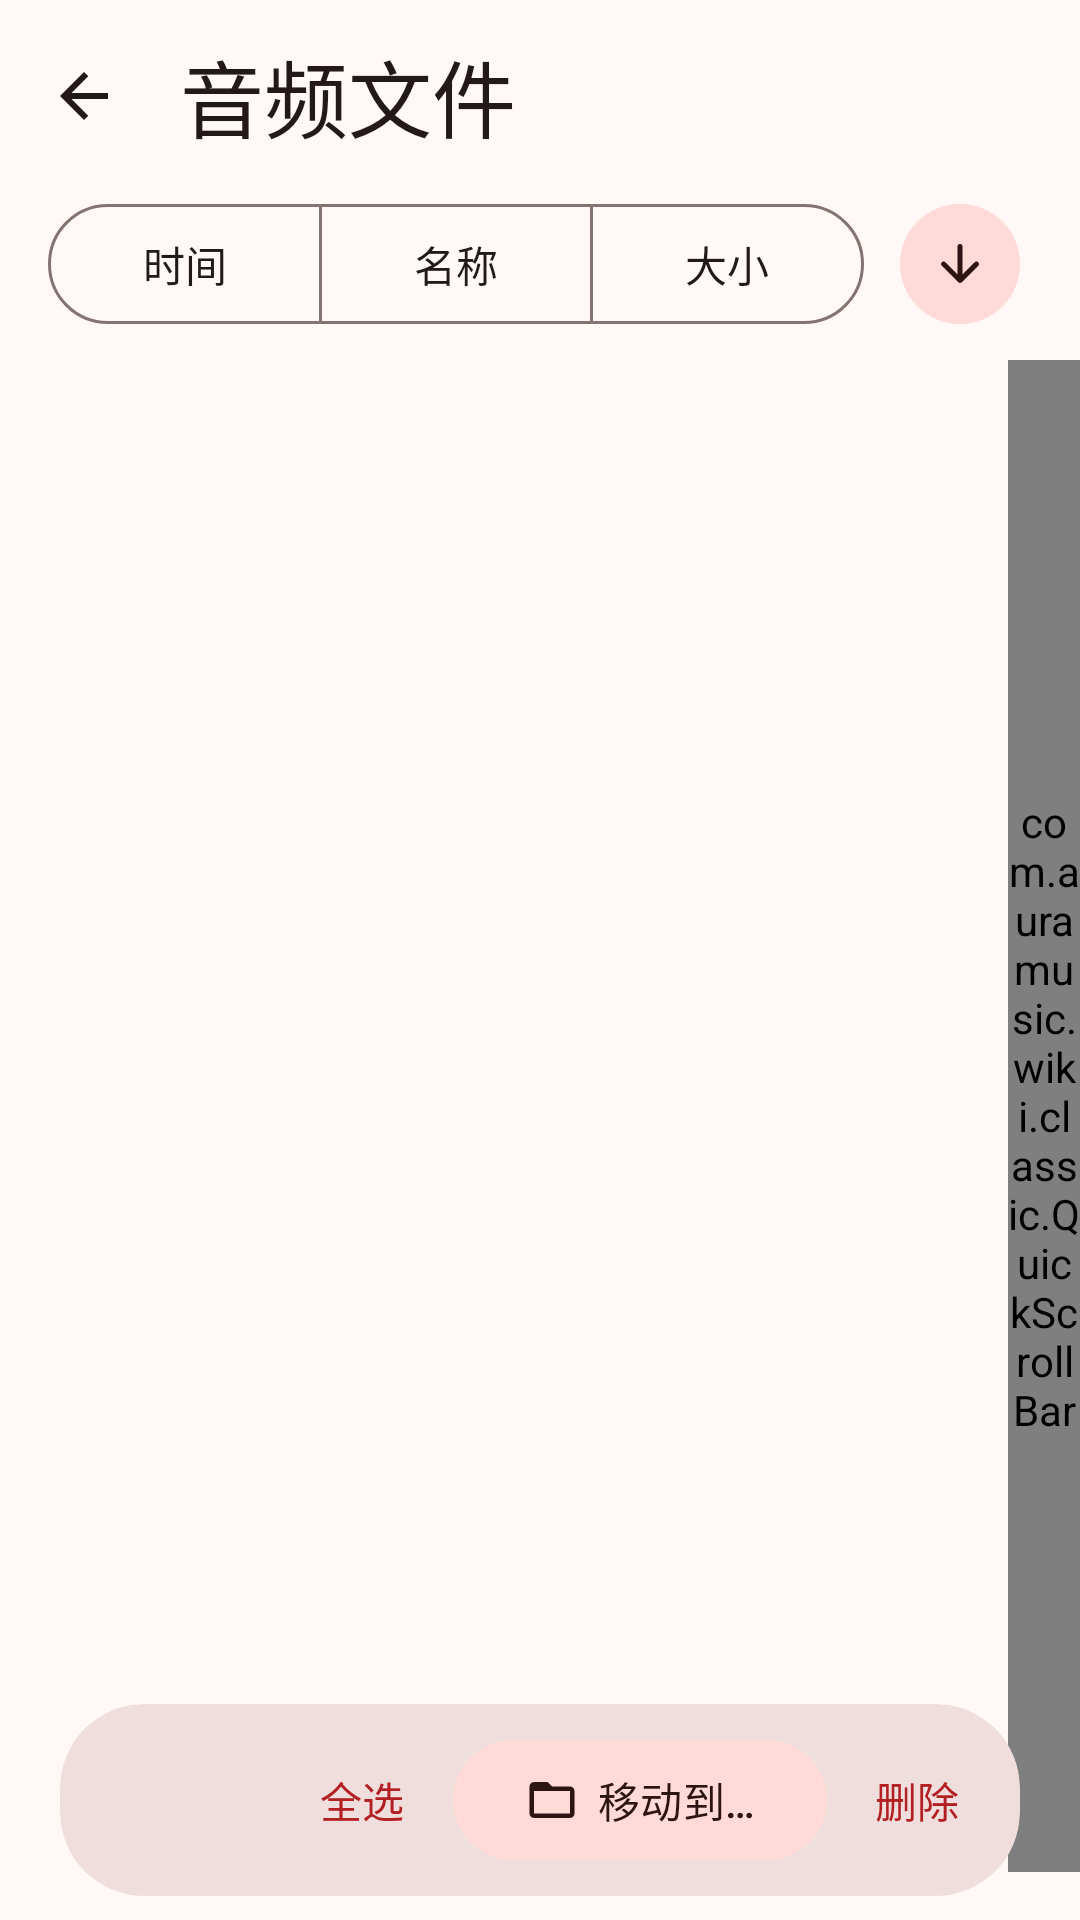

Icon click points for this 1080x1920 phone screenshot, format point (x, y):
当前正序，点击切换为倒序: point (960, 264)
